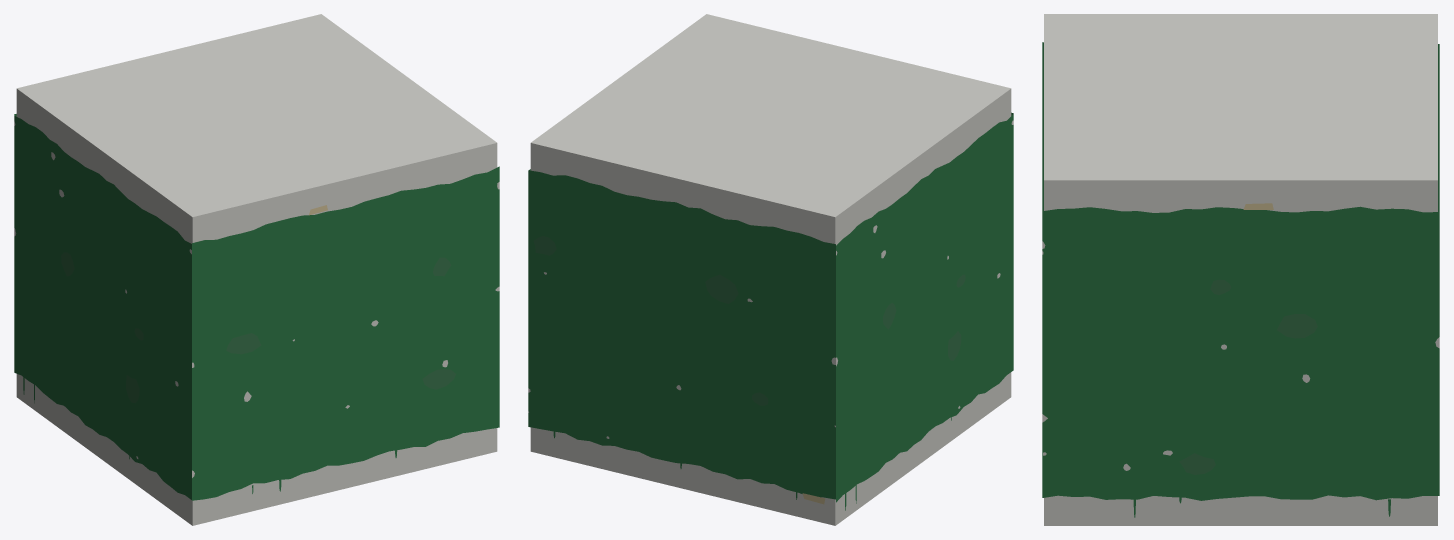
Rendered from pillar_band_gruen.glb.
The picture shows the model from 3 angles, left to right: view 1: azimuth 30°, elevation 25°; view 2: azimuth 150°, elevation 25°; view 3: azimuth 270°, elevation 25°; orthographic projection. The views are drawn at different scales.
Parts seen in each view (by area): view 1: band; view 2: band; view 3: band.
Part boxes in pixels (x1=…): band: x1=14, y1=14, x2=499, y2=525; band: x1=528, y1=14, x2=1013, y2=525; band: x1=1042, y1=14, x2=1439, y2=525.
Size of the model in its own units: 1 by 0.96 by 1.
